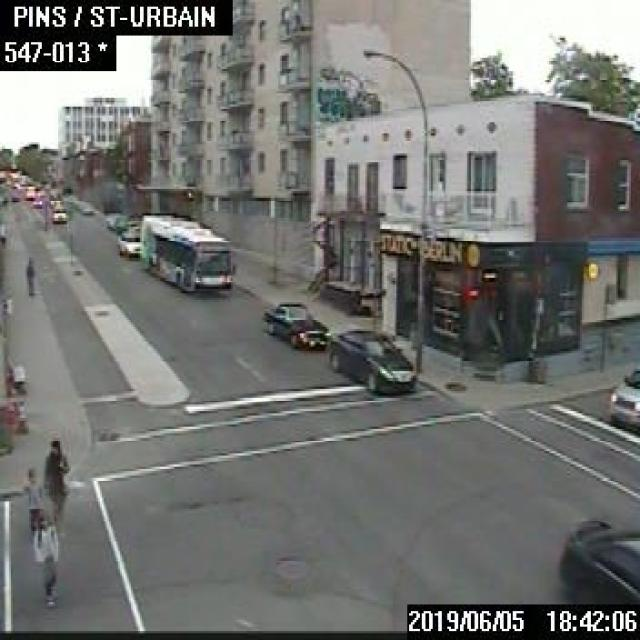bus: (140, 212, 233, 294)
pedestrian: (43, 436, 68, 535), (32, 514, 58, 605), (22, 464, 41, 547), (23, 256, 34, 296)
vehicle: (556, 514, 638, 602), (328, 328, 416, 394), (260, 301, 328, 350), (607, 364, 638, 426), (115, 229, 139, 257), (51, 204, 67, 220), (80, 200, 94, 213), (30, 194, 41, 207)
